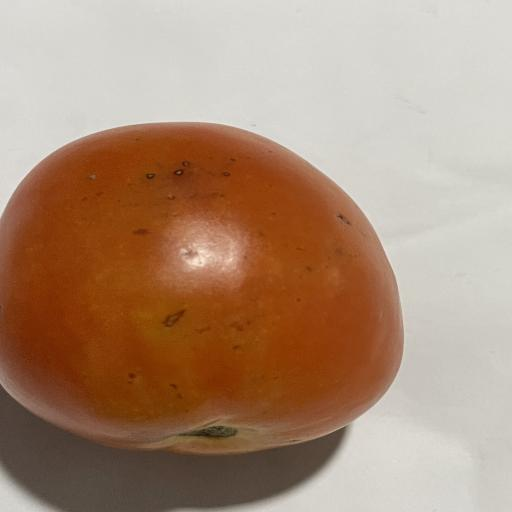ripe: (0, 122, 403, 455)
